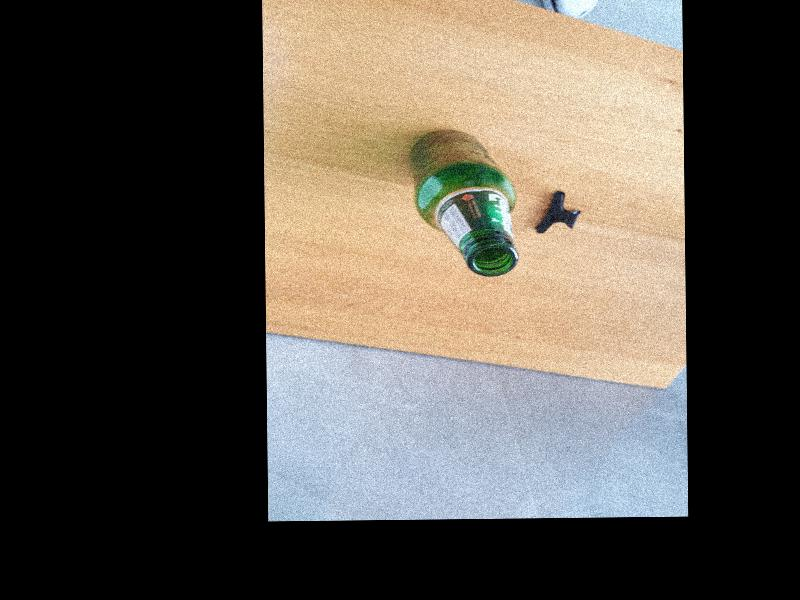Beer: (408, 127, 519, 277)
